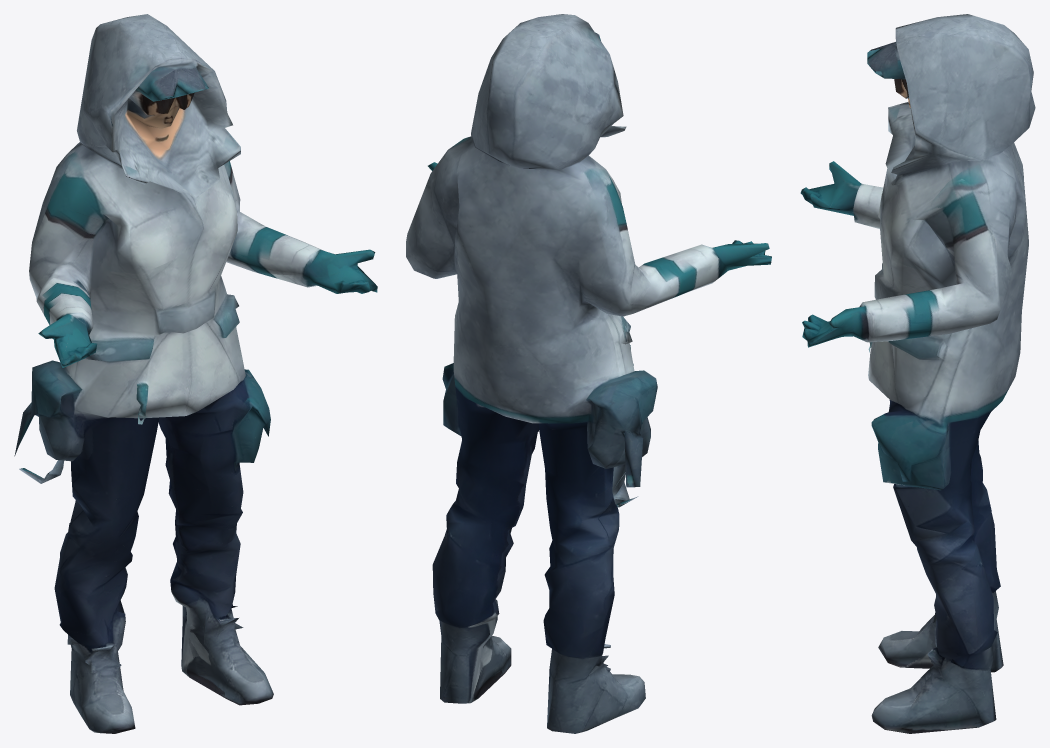
The model's file is frost.glb.
The picture shows the model from 3 angles, left to right: view 1: azimuth 30°, elevation 25°; view 2: azimuth 150°, elevation 25°; view 3: azimuth 270°, elevation 25°; orthographic projection. The views are drawn at different scales.
Bounding box in the file's own units: 0.9911 × 1.89 × 0.6045.
Materials: 1 (1 with a texture image).
